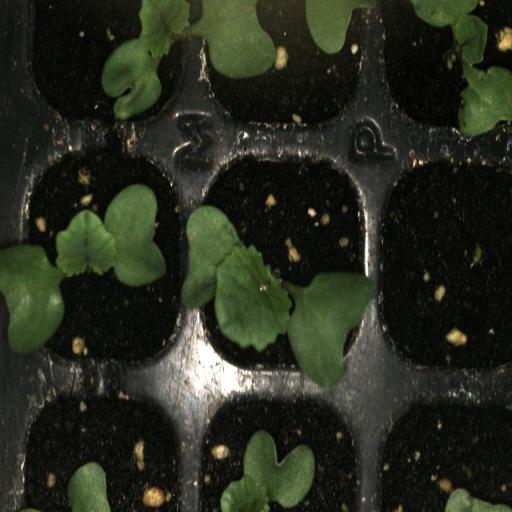Folha: (220, 431, 315, 512), (288, 0, 380, 55), (68, 462, 111, 512)
Germinacao: (189, 135, 376, 388), (8, 136, 188, 376), (8, 0, 189, 134), (377, 0, 512, 136)
